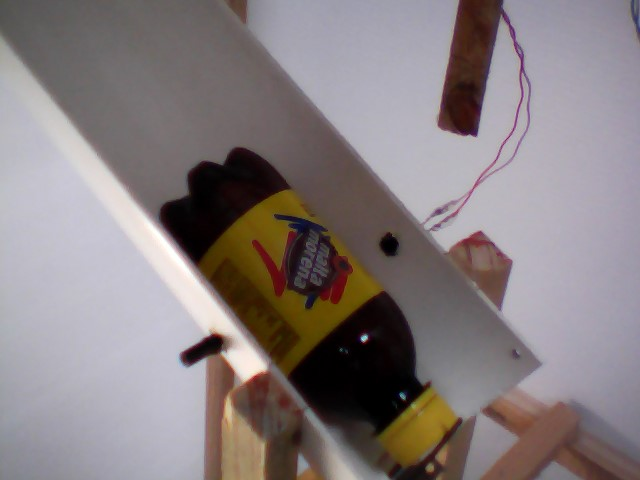plastico: (127, 135, 465, 473)
